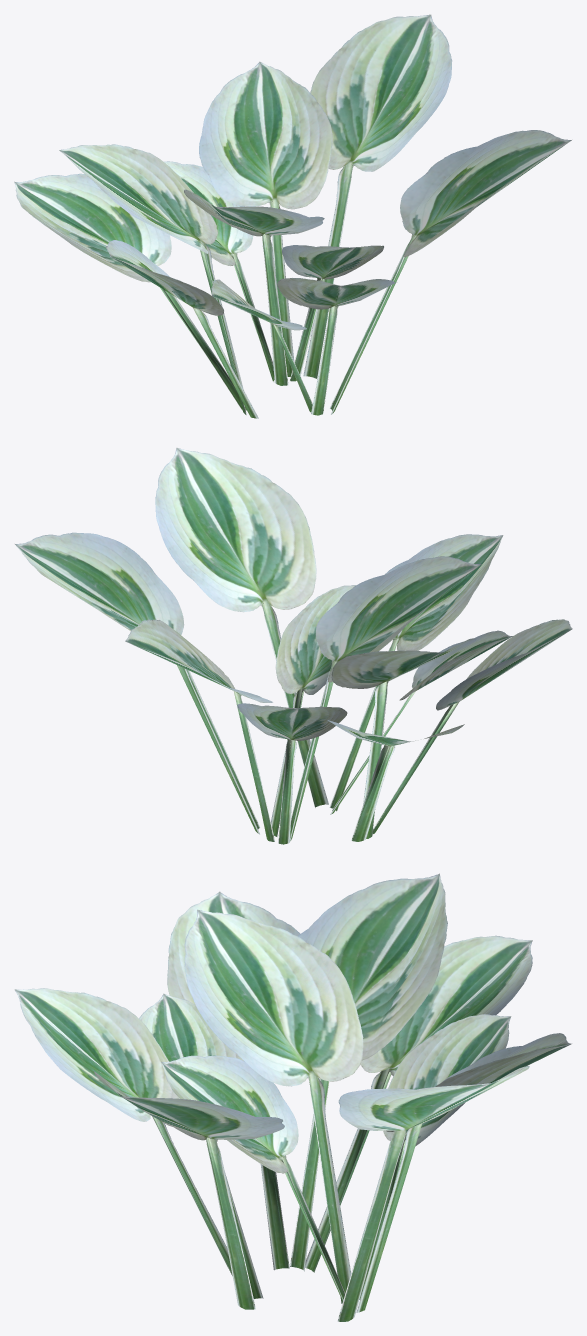
File: plant_small_wg_01P.fbx
The picture shows the model from 3 angles, top to bottom: view 1: azimuth 30°, elevation 25°; view 2: azimuth 150°, elevation 25°; view 3: azimuth 270°, elevation 25°; orthographic projection. The views are drawn at different scales.
Visible parts, largest first — view 1: plant_small_wg_01P; view 2: plant_small_wg_01P; view 3: plant_small_wg_01P.
Boxes of the visible parts, <box> form: plant_small_wg_01P: <box>14,14,571,418</box>; plant_small_wg_01P: <box>15,448,572,844</box>; plant_small_wg_01P: <box>14,873,571,1321</box>.
Size of the model in its own units: 85.17 by 52.32 by 76.58.
